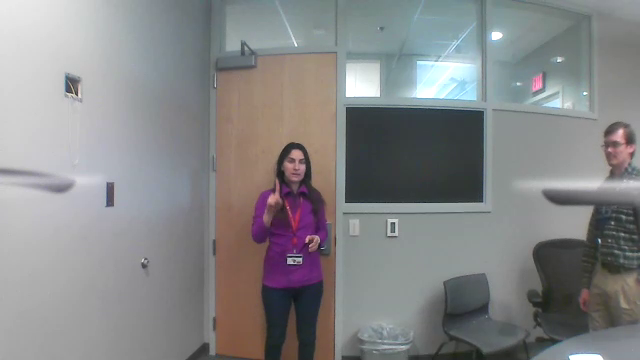up: (262, 175, 286, 215)
